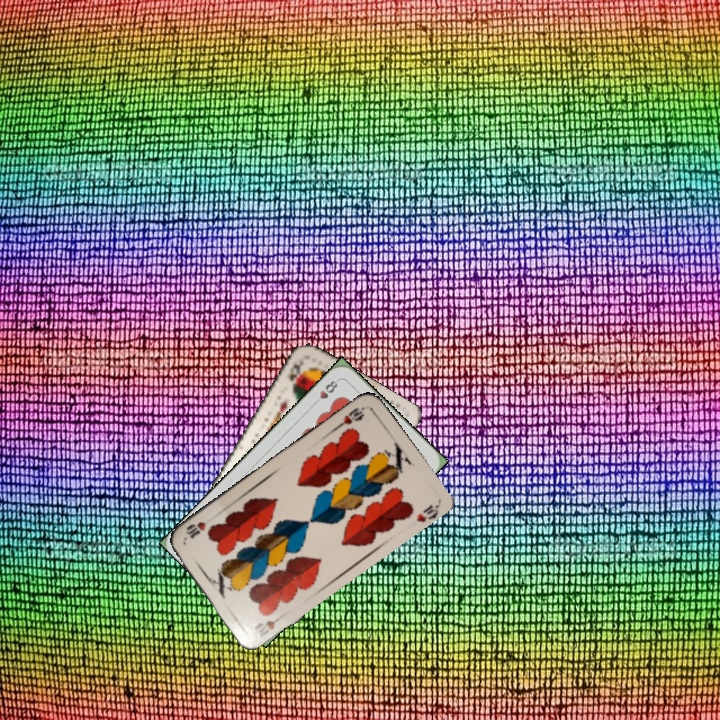H10: (250, 610, 286, 640), (333, 402, 368, 430)
H8: (309, 375, 341, 408)
SK: (284, 355, 307, 389)
